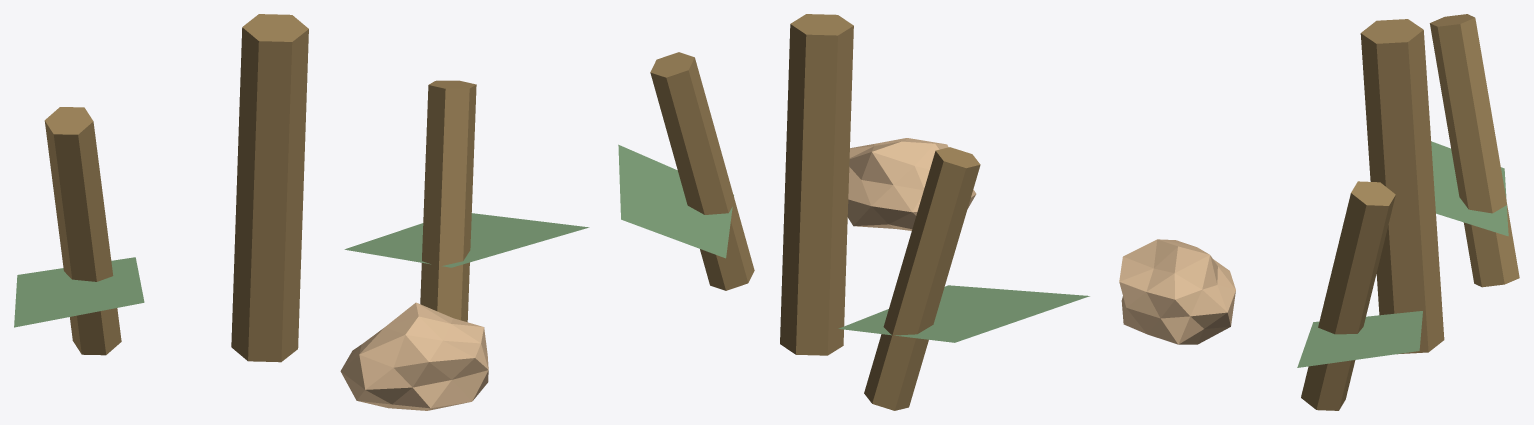
Rendered from t2_fiber_depleted.glb.
The picture shows the model from 3 angles, left to right: view 1: azimuth 30°, elevation 25°; view 2: azimuth 150°, elevation 25°; view 3: azimuth 270°, elevation 25°; orthographic projection. The views are drawn at different scales.
Parts seen in each view (by area): view 1: CutCenterStem, DroppedCottonTuft, CutRightStem, CutLeftStem, WiltedLeafLeft, WiltedLeafRight; view 2: CutCenterStem, CutLeftStem, CutRightStem, DroppedCottonTuft, WiltedLeafRight, WiltedLeafLeft; view 3: CutCenterStem, CutLeftStem, DroppedCottonTuft, CutRightStem, WiltedLeafRight, WiltedLeafLeft.
Boxes of the visible parts, box(x1,y1,x2,y2) form: CutCenterStem: box(231, 14, 308, 362); DroppedCottonTuft: box(340, 302, 488, 410); CutRightStem: box(420, 80, 476, 322); CutLeftStem: box(44, 107, 121, 355); WiltedLeafLeft: box(14, 257, 144, 327); WiltedLeafRight: box(344, 213, 589, 267); CutCenterStem: box(780, 14, 853, 355); CutLeftStem: box(864, 147, 980, 410); CutRightStem: box(650, 52, 754, 290); DroppedCottonTuft: box(847, 138, 976, 230); WiltedLeafRight: box(618, 144, 733, 258); WiltedLeafLeft: box(838, 285, 1089, 342); CutCenterStem: box(1360, 19, 1444, 354); CutLeftStem: box(1429, 14, 1519, 287); DroppedCottonTuft: box(1119, 239, 1235, 344); CutRightStem: box(1301, 181, 1395, 410); WiltedLeafRight: box(1297, 311, 1422, 367); WiltedLeafLeft: box(1431, 141, 1508, 236).
Bounding box in the file's own units: 0.6481 × 0.3837 × 0.4436.
